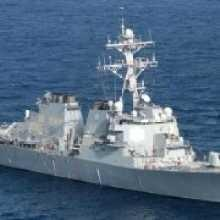warship: (1, 27, 217, 201)
